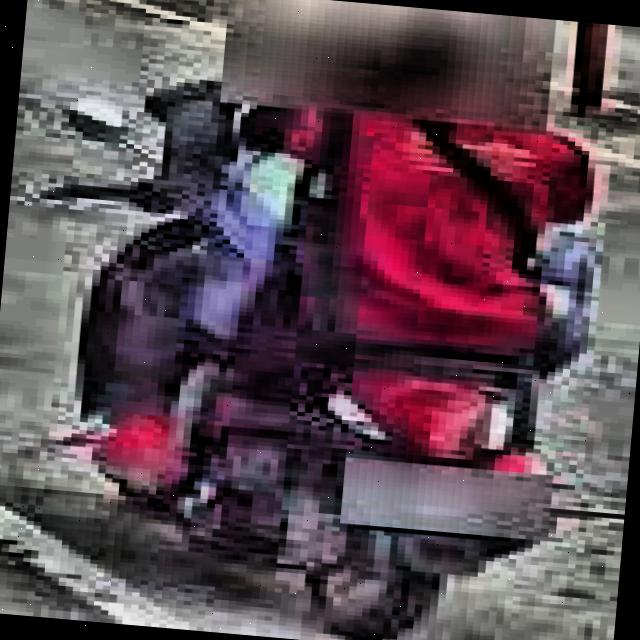motorcycle: (5, 92, 640, 640)
